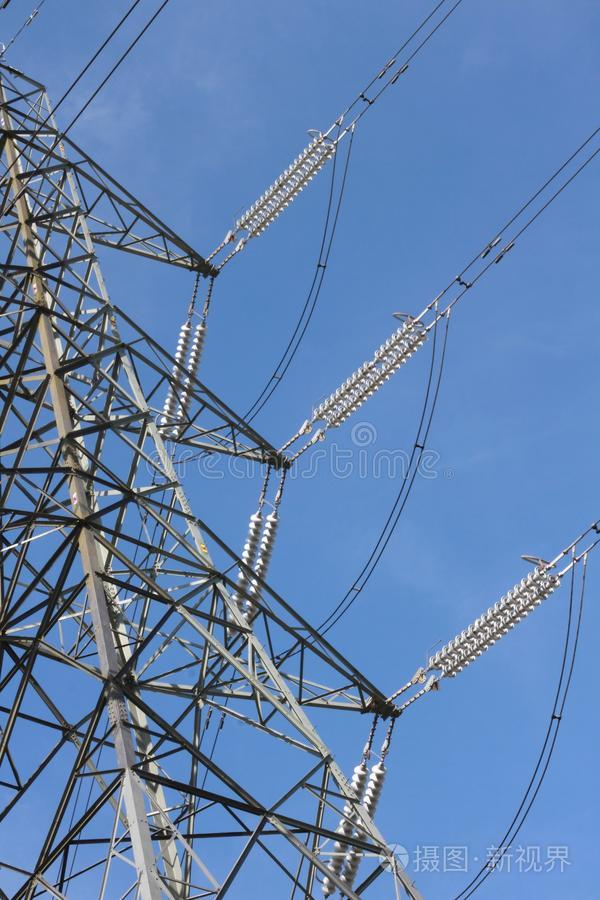insulator: (430, 567, 556, 676), (310, 318, 424, 433), (235, 127, 336, 238), (325, 753, 381, 892), (162, 316, 205, 428), (234, 509, 277, 609)
